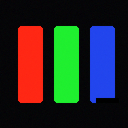3 line_h: (96, 98, 118, 102)
